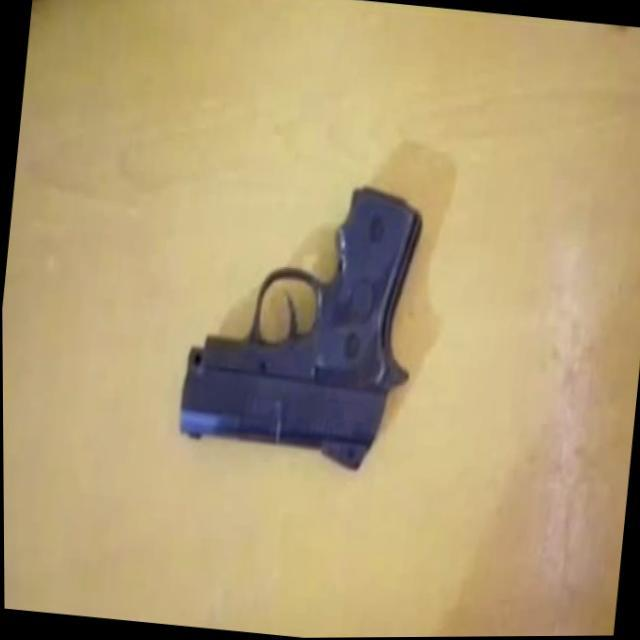weapon: (172, 167, 430, 478)
